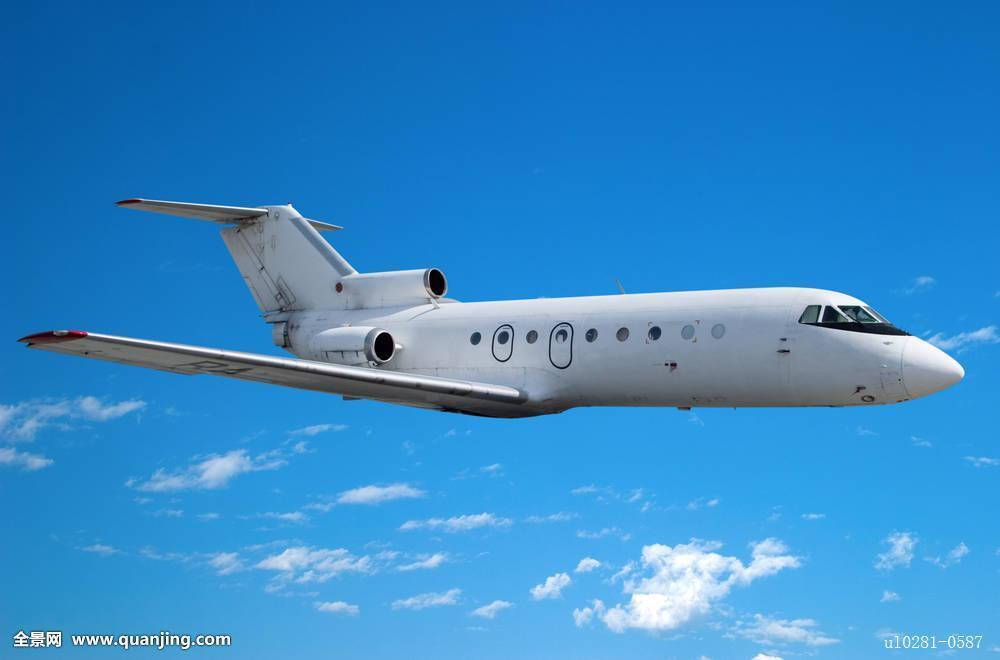airplane: (18, 193, 981, 428)
